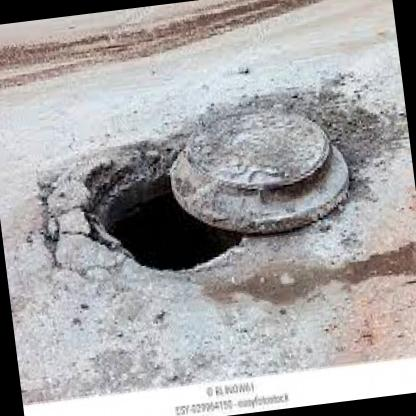manholes: (60, 90, 362, 288)
